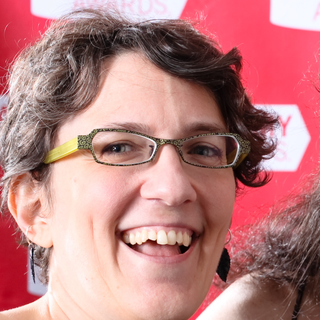eye: (97, 139, 140, 158), (183, 142, 223, 162)
